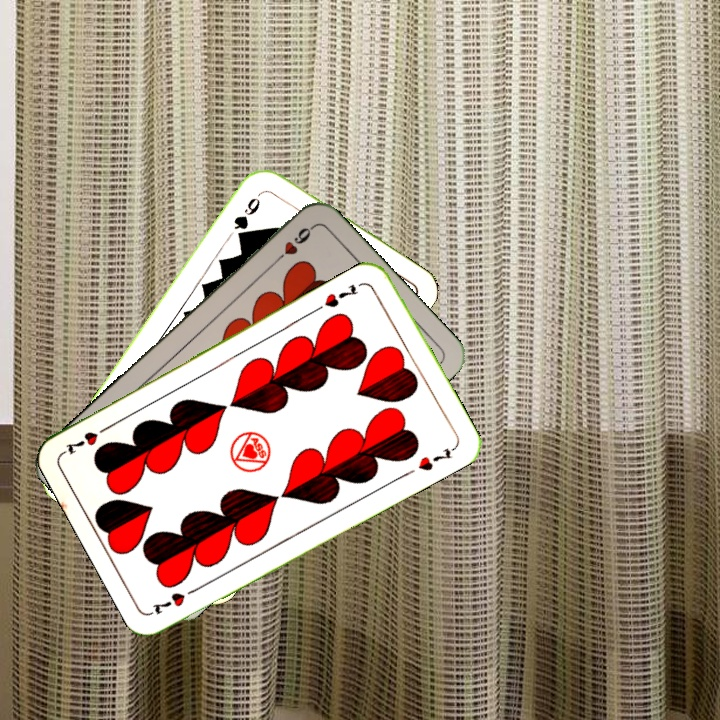G9: (229, 187, 266, 243)
H7: (148, 582, 203, 617), (320, 280, 361, 311)
H9: (270, 222, 317, 267)
